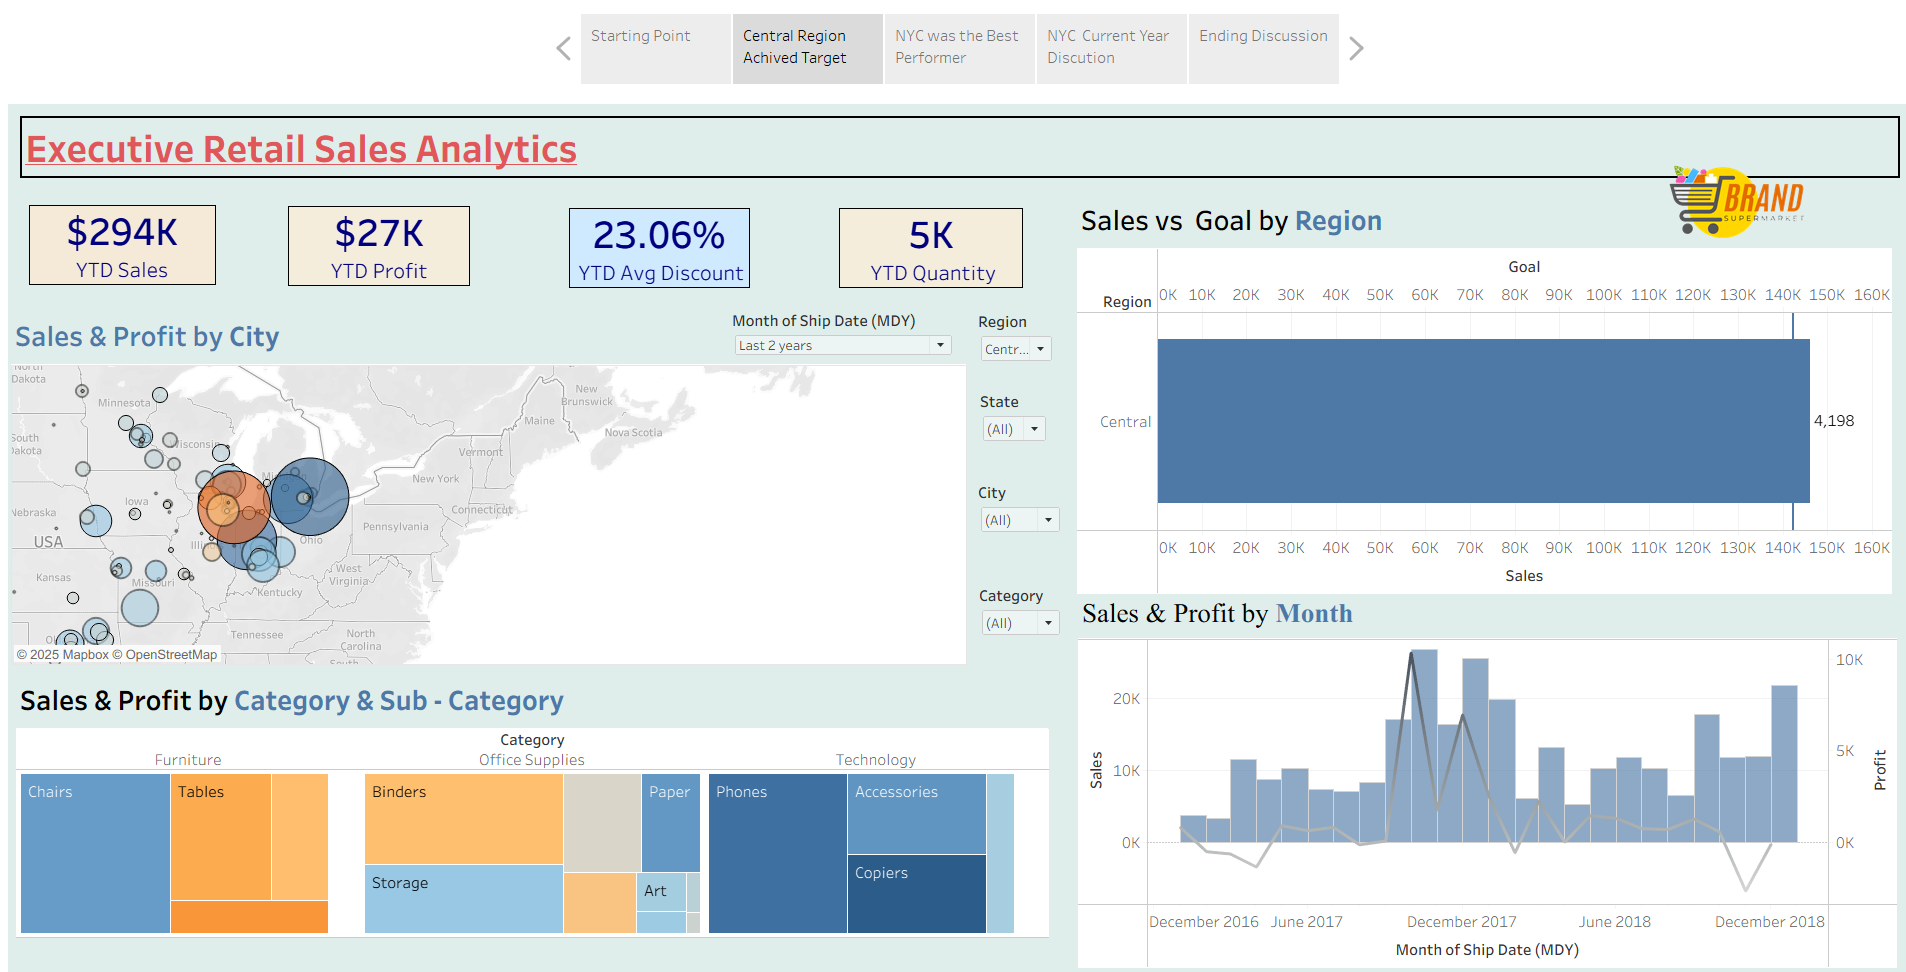

This screenshot's page, from the dashboard's own definition file:
{"tool":"tableau","page":{"name":"Dashboard 1","canvas":[1000,1000],"units":"permille","ordinal":0},"visuals":[{"type":"title","box":[4.8,10,990.3,87.4]},{"type":"image","param":"Image/supermarket-logo-template-with-shopping-cart_23-[number redacted].png","box":[826.8,13.7,163.6,194.8]},{"type":"worksheet","title":"Sales vs  Goal by Region","mark":"Automatic","rows":["Region"],"cols":["Sales","Goal"],"box":[561.3,106.1,428.5,453.2]},{"type":"worksheet","title":"Sheet 6","mark":"Automatic","box":[10.9,114.9,113.5,112.4]},{"type":"worksheet","title":"Sheet 6 (2)","mark":"Automatic","box":[147.2,116.1,111,103.6]},{"type":"worksheet","title":"YTD Avg Discound","mark":"Automatic","box":[294.5,118.6,109.8,101.1]},{"type":"worksheet","title":"Sheet 6 (3)","mark":"Automatic","box":[436.3,118.6,112.9,107.4]},{"type":"filter","title":"Sales & Profit by Month","param":"[federated.0hnb2jl033wxgv19xz3st11ub5jo].[tmn:Ship Date (MDY):qk]","box":[380.2,234.7,117.1,99.9]},{"type":"filter","title":"Sales vs  Goal by Region","param":"[federated.0hnb2jl033wxgv19xz3st11ub5jo].[none:Region:nk]","box":[509.4,236,40.4,79.9]},{"type":"worksheet","title":"Sales & Profit by City","mark":"Automatic","box":[1.8,238.5,502.1,402]},{"type":"filter","title":"Sales & Profit by City","param":"[federated.0hnb2jl033wxgv19xz3st11ub5jo].[none:State:nk]","box":[510.6,327.1,36.2,81.2]},{"type":"filter","title":"Sales & Profit by City","param":"[federated.0hnb2jl033wxgv19xz3st11ub5jo].[none:City:nk]","box":[509.4,432,44.7,92.4]},{"type":"filter","title":"Sales & Profit by Category & Sub - Category","param":"[federated.0hnb2jl033wxgv19xz3st11ub5jo].[none:Category:nk]","box":[510,549.3,44.1,94.9]},{"type":"worksheet","title":"Sales & Profit by Month","mark":"Automatic","rows":["Sales","Profit"],"cols":["Ship Date (MDY)"],"box":[561.9,559.3,430.9,427]},{"type":"worksheet","title":"Sales & Profit by Category & Sub - Category","mark":"Automatic","cols":["Category"],"box":[4.2,654.2,542.5,329.6]}]}

Visuals, with their boxes on the dashboard's canvas, which has no fixed pixel size, in thousandths of its width and height (x1, y1, x2, y2). These are canvas units, not pixel positions in the 1906x972 screenshot, which may show the page scaled, cropped or inside an application window:
title: box(5, 10, 995, 97)
image: box(827, 14, 990, 208)
"Sales vs  Goal by Region" worksheet: box(561, 106, 990, 559)
"Sheet 6" worksheet: box(11, 115, 124, 227)
"Sheet 6 (2)" worksheet: box(147, 116, 258, 220)
"YTD Avg Discound" worksheet: box(294, 119, 404, 220)
"Sheet 6 (3)" worksheet: box(436, 119, 549, 226)
"Sales & Profit by Month" filter: box(380, 235, 497, 335)
"Sales vs  Goal by Region" filter: box(509, 236, 550, 316)
"Sales & Profit by City" worksheet: box(2, 238, 504, 640)
"Sales & Profit by City" filter: box(511, 327, 547, 408)
"Sales & Profit by City" filter: box(509, 432, 554, 524)
"Sales & Profit by Category & Sub - Category" filter: box(510, 549, 554, 644)
"Sales & Profit by Month" worksheet: box(562, 559, 993, 986)
"Sales & Profit by Category & Sub - Category" worksheet: box(4, 654, 547, 984)
